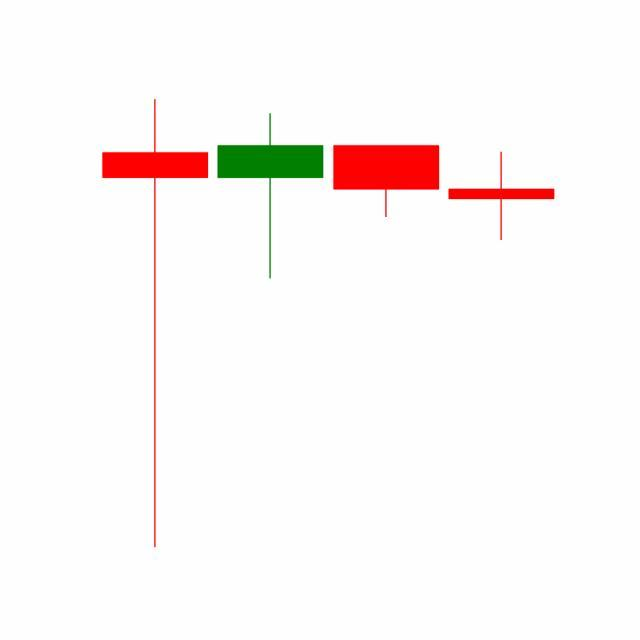Spinning Top: (444, 151, 560, 243)
